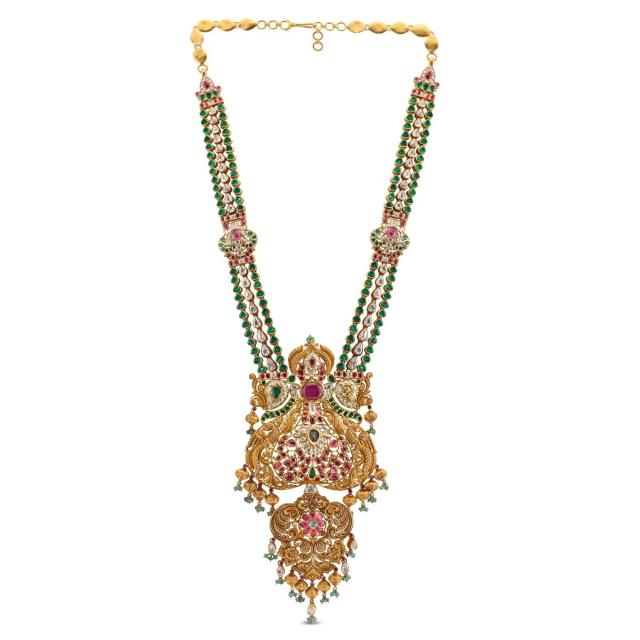missing gem: (308, 430, 319, 444), (341, 386, 350, 399)
